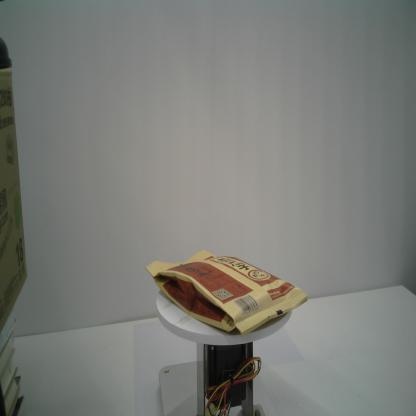Dried Food: (143, 247, 309, 340)
